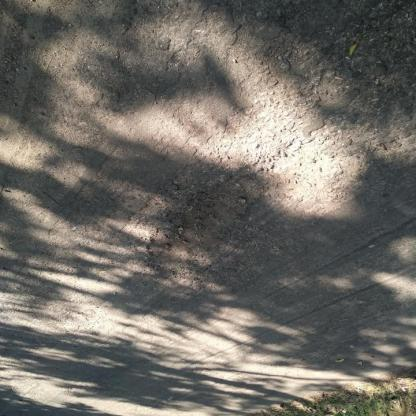pothole: (145, 163, 276, 280)
